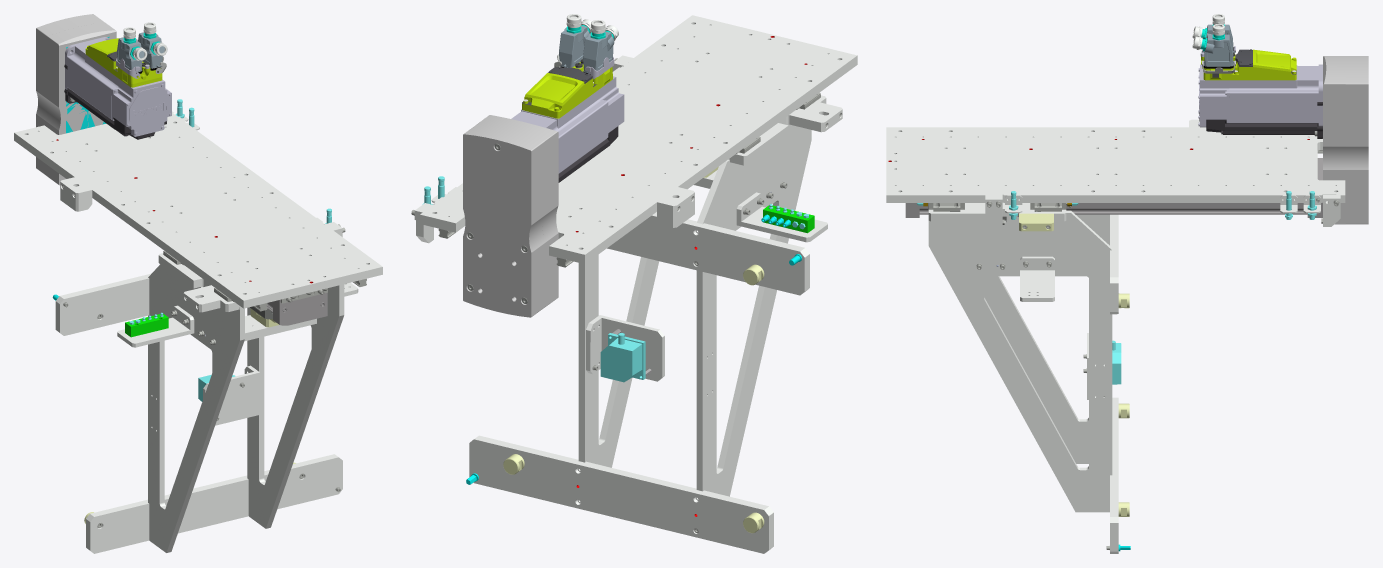
Rendered from Carrier_V-transformed.glb.
3 renders of one model, left to right at view 1: azimuth 30°, elevation 25°; view 2: azimuth 150°, elevation 25°; view 3: azimuth 270°, elevation 25°, orthographic. The views are drawn at different scales.
Parts seen in each view (by area): view 1: AP226222024_91202A267; view 2: AP226222024_91202A267; view 3: AP226222024_91202A267.
Part boxes in pixels (left/top/right/bottom): AP226222024_91202A267: left=14, top=14, right=382, bottom=553; AP226222024_91202A267: left=411, top=14, right=857, bottom=553; AP226222024_91202A267: left=886, top=14, right=1368, bottom=553.
Bounding box in the file's own units: 0.7112 × 1.11 × 1.05.
Materials: 1 (1 with a texture image).
